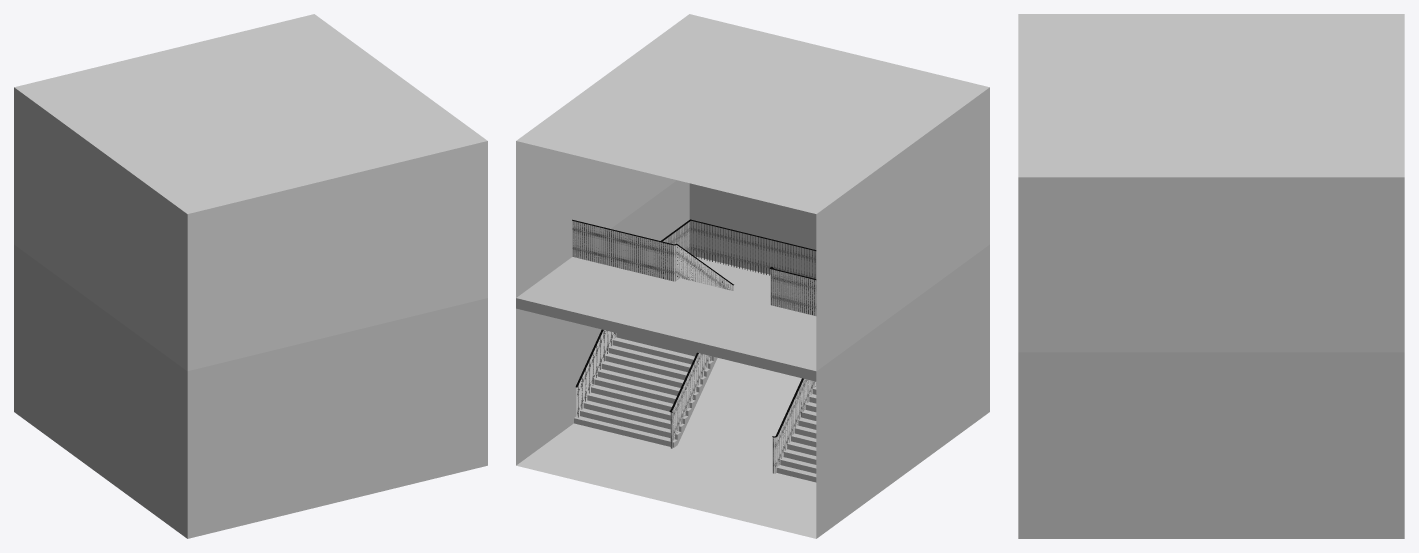
File: double_staircase.fbx
3 views of the same model, side by side, from view 1: azimuth 30°, elevation 25°; view 2: azimuth 150°, elevation 25°; view 3: azimuth 270°, elevation 25° (orthographic). The views are drawn at different scales.
Parts seen in each view (by area): view 1: BS_wall_last_floor_1, BS_wall, E01_stairs_first; view 2: BS_wall_last_floor_1, BS_wall, E01_stairs_first, BS_ground, BS01_close_handrail_last_floor, BS01_handrail_int, BS01_handrail_part02, BS01_handrail_part01; view 3: BS_wall_last_floor_1, BS_wall, E01_stairs_first.
Boxes of the visible parts, <box> form: BS_wall_last_floor_1: <box>14,14,487,371</box>; BS_wall: <box>14,244,487,538</box>; E01_stairs_first: <box>14,245,487,455</box>; BS_wall_last_floor_1: <box>516,14,989,370</box>; BS_wall: <box>516,180,989,538</box>; E01_stairs_first: <box>516,256,989,496</box>; BS_ground: <box>516,358,816,538</box>; BS01_close_handrail_last_floor: <box>572,219,816,315</box>; BS01_handrail_int: <box>669,243,816,473</box>; BS01_handrail_part02: <box>661,219,816,278</box>; BS01_handrail_part01: <box>575,329,616,418</box>; BS_wall_last_floor_1: <box>1018,14,1404,352</box>; BS_wall: <box>1018,352,1404,538</box>; E01_stairs_first: <box>1018,352,1404,538</box>.
Size of the model in its own units: 600 by 620 by 600.
